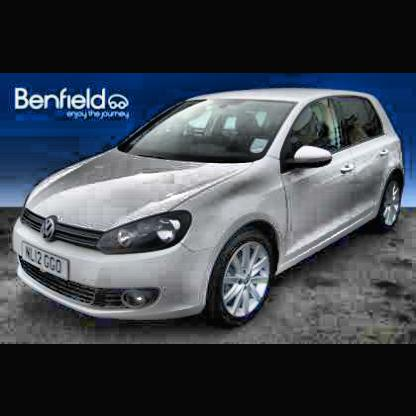Volkswagen Golf Hatchback 2012: (9, 85, 409, 335)
